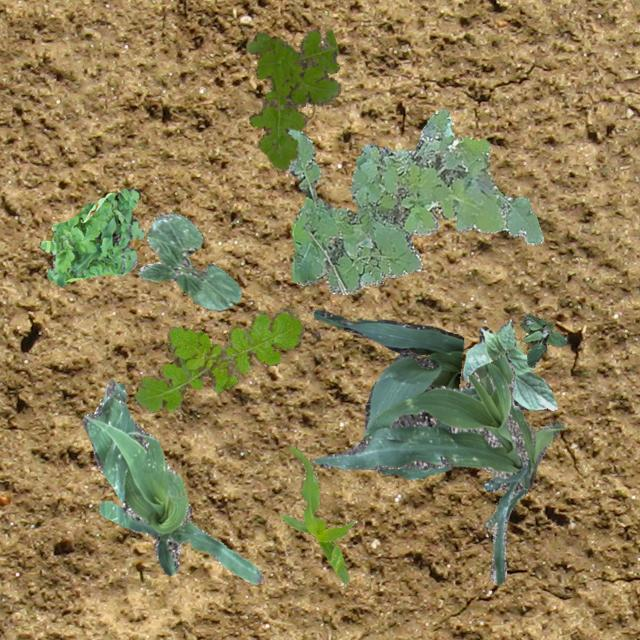crop: (312, 354, 564, 584), (81, 378, 262, 584), (312, 308, 462, 480), (278, 444, 354, 582), (136, 212, 240, 310), (459, 319, 556, 409)
weed: (286, 109, 542, 294), (134, 306, 304, 411), (244, 28, 340, 170), (38, 188, 144, 286), (520, 313, 566, 367)
